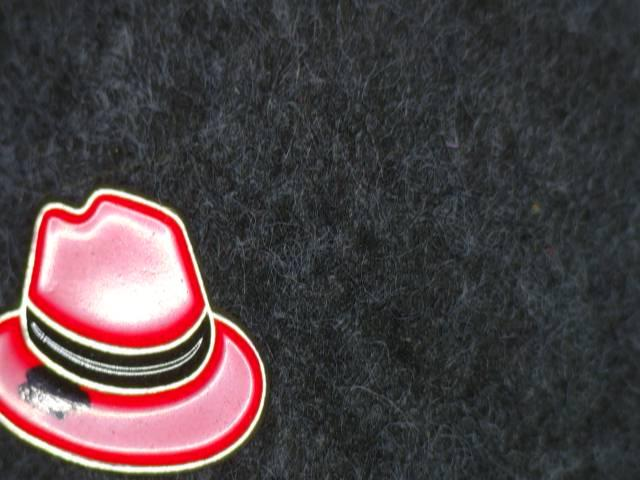Red-Hat: (0, 167, 296, 480)
Scratch: (4, 349, 101, 430)
